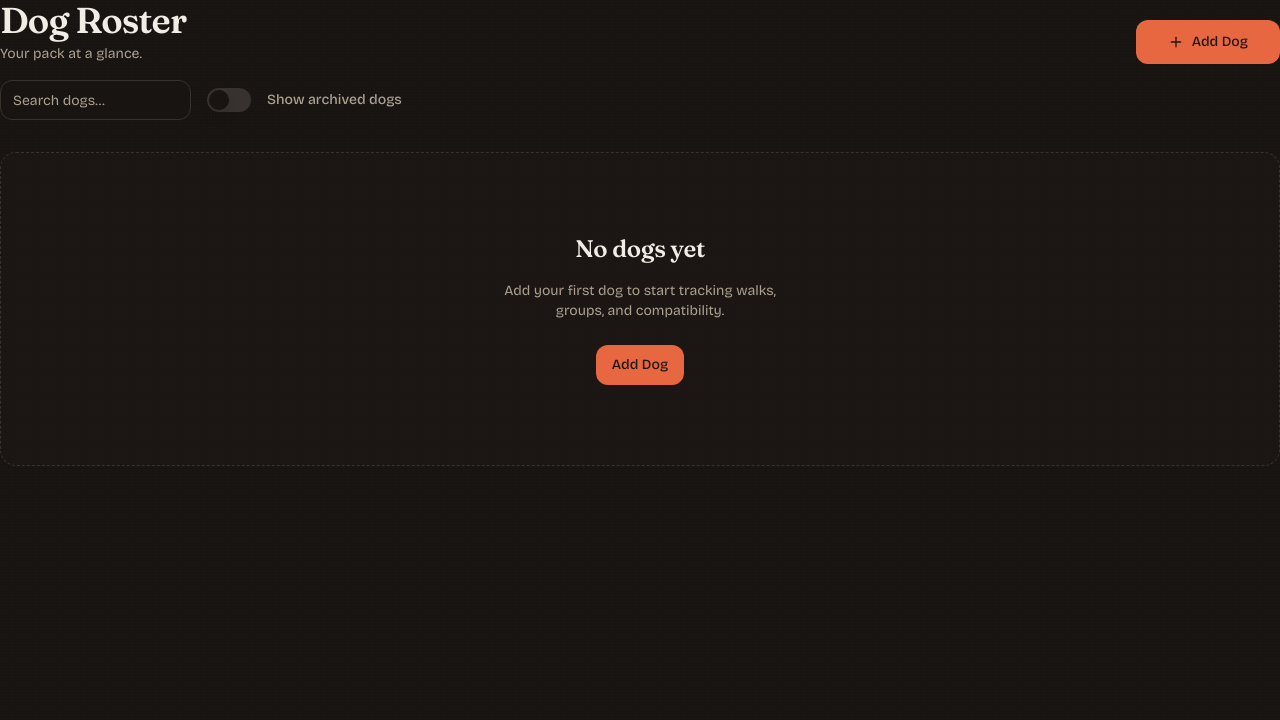
Test: DogRoster - Add flow › submitting with empty name shows error "Name is required."
Click the button "Add Dog" in the row of "Dog Roster": (1208, 42) top-left (1136, 20), bottom-right (1279, 64)
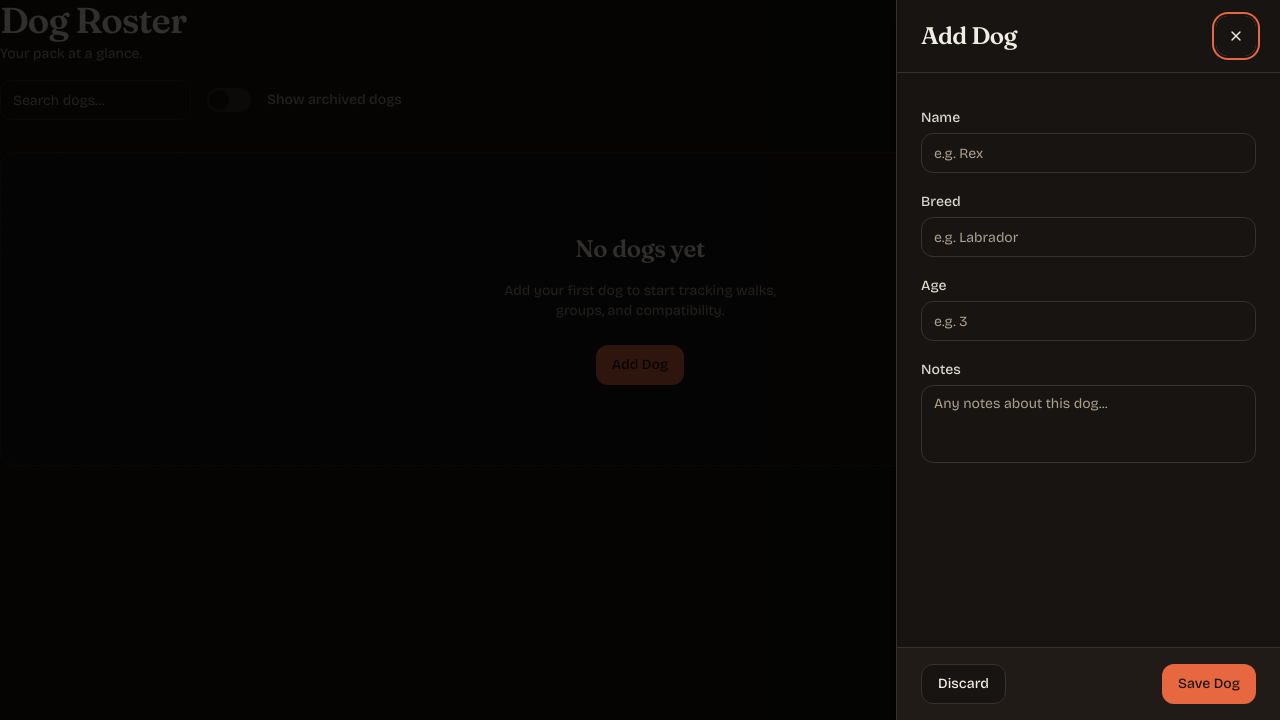
Click the button "Save Dog": (1209, 684) top-left (1162, 664), bottom-right (1256, 704)
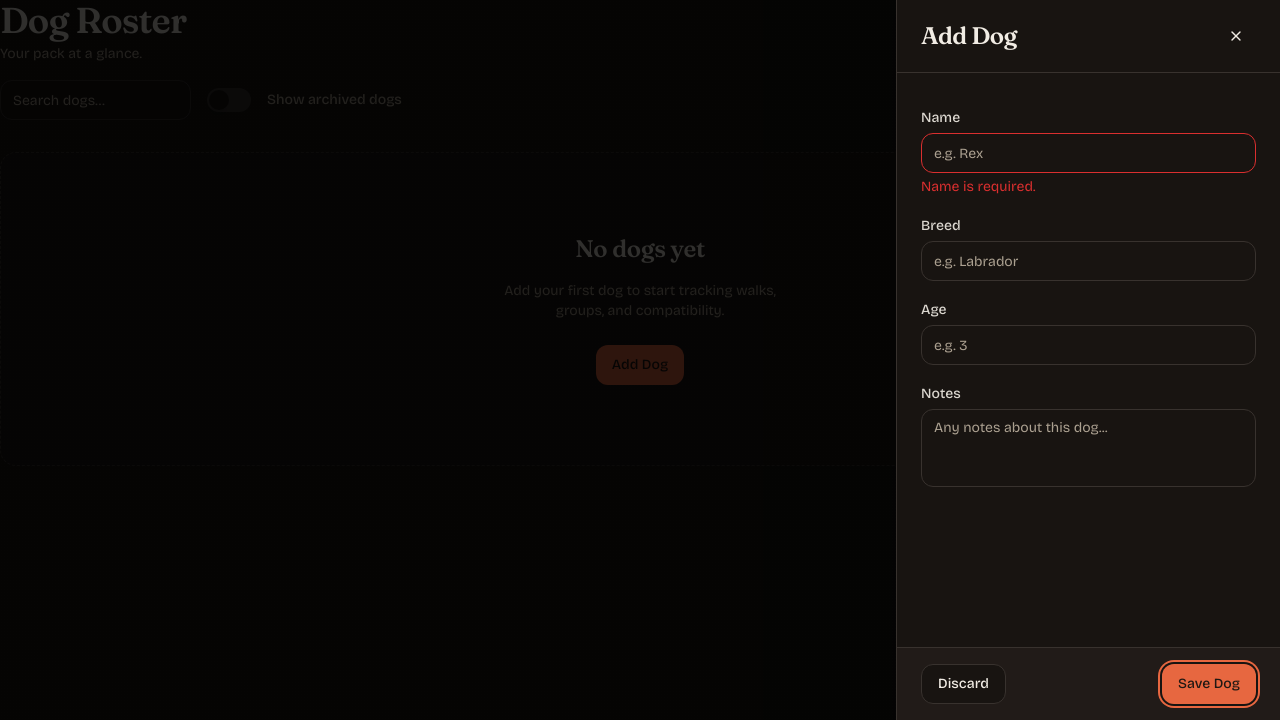
Check: the text "Name is required." is shown, box top-left (921, 178), bottom-right (1036, 195)
